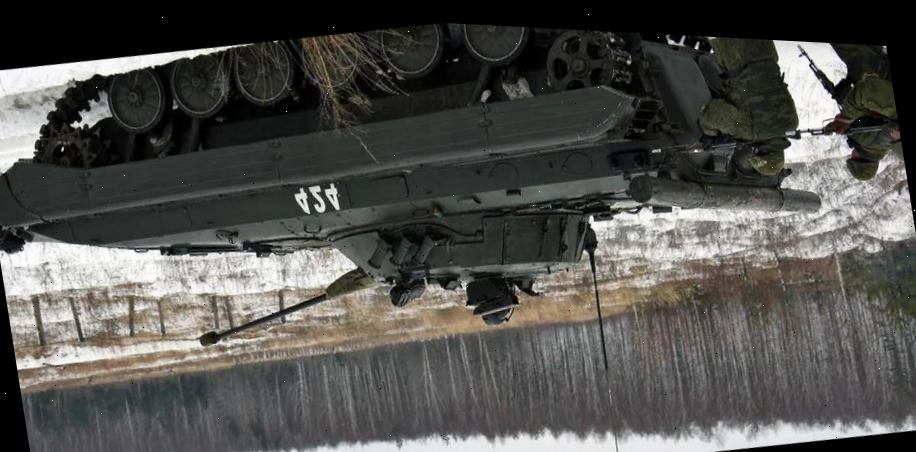person: (676, 35, 815, 187), (801, 42, 905, 176), (816, 42, 906, 185)
tank: (0, 0, 836, 420)
